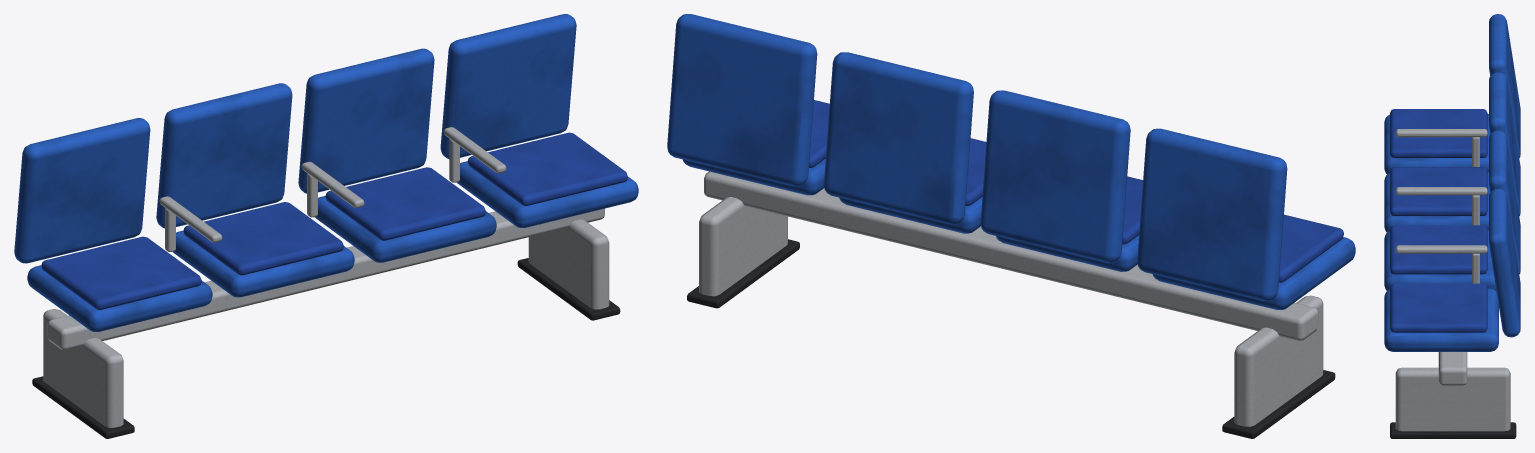
The model's file is WaitingChairs.fbx.
The picture shows the model from 3 angles, left to right: view 1: azimuth 30°, elevation 25°; view 2: azimuth 150°, elevation 25°; view 3: azimuth 270°, elevation 25°; orthographic projection. The views are drawn at different scales.
Parts seen in each view (by area): view 1: WaitingChairs_PlasticBlue, WaitingChairs_FabricBlue, WaitingChairs_Steel, WaitingChairs_PlasticDark; view 2: WaitingChairs_PlasticBlue, WaitingChairs_Steel, WaitingChairs_FabricBlue, WaitingChairs_PlasticDark; view 3: WaitingChairs_FabricBlue, WaitingChairs_PlasticBlue, WaitingChairs_Steel, WaitingChairs_PlasticDark.
Part boxes in pixels (left/top/right/bottom): WaitingChairs_PlasticBlue: left=14, top=14, right=638, bottom=331; WaitingChairs_FabricBlue: left=41, top=132, right=627, bottom=309; WaitingChairs_Steel: left=43, top=127, right=609, bottom=427; WaitingChairs_PlasticDark: left=32, top=258, right=620, bottom=438; WaitingChairs_PlasticBlue: left=667, top=14, right=1355, bottom=309; WaitingChairs_Steel: left=699, top=128, right=1323, bottom=426; WaitingChairs_FabricBlue: left=809, top=100, right=1343, bottom=282; WaitingChairs_PlasticDark: left=687, top=239, right=1335, bottom=438; WaitingChairs_FabricBlue: left=1390, top=109, right=1487, bottom=332; WaitingChairs_PlasticBlue: left=1384, top=14, right=1520, bottom=351; WaitingChairs_Steel: left=1395, top=129, right=1510, bottom=431; WaitingChairs_PlasticDark: left=1390, top=422, right=1516, bottom=438.
Bounding box in the file's own units: 930 × 405 × 238.
Materials: 4 (4 with a texture image).
